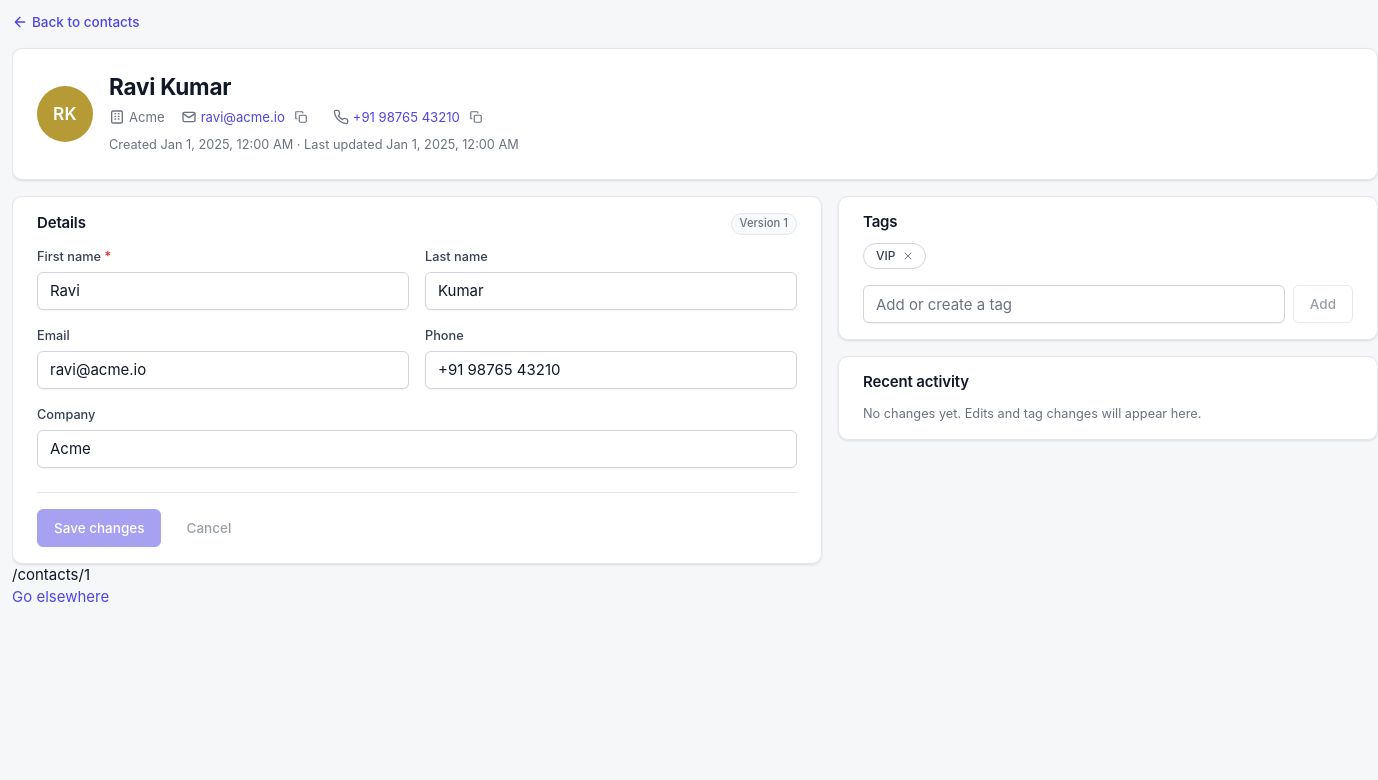
Test: TagEditor: optimistic updates › removes a tag instantly and restores it if the server fails
Expected: the heading "Ravi Kumar" is shown, 109,73 -> 231,100
What coordinates should you click on to do the following:
click the button named "Remove tag VIP"
I would click on:
 (908, 256)
Its box is 900,247 -> 918,265.
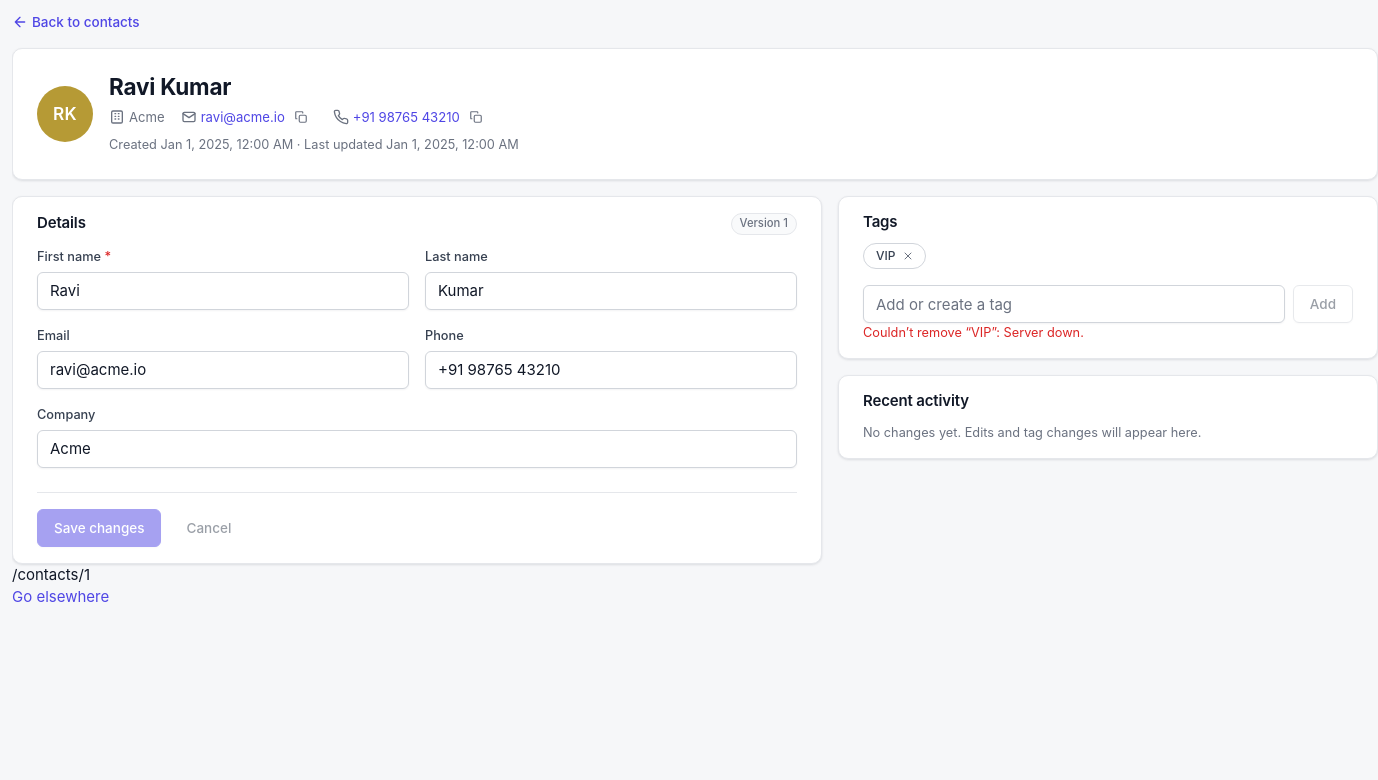
Now the text "Couldn’t remove “VIP”: Server down." is shown, box 863,325 -> 1084,340
